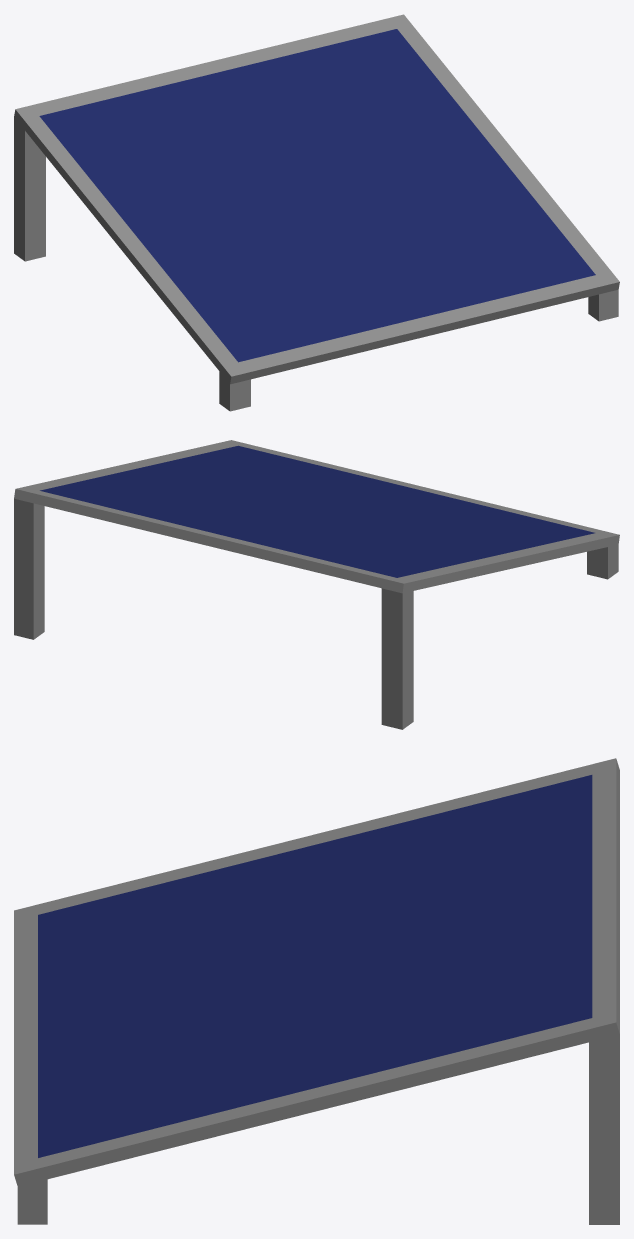
Rendered from solar panel.fbx.
3 renders of one model, top to bottom at view 1: azimuth 30°, elevation 25°; view 2: azimuth 150°, elevation 25°; view 3: azimuth 270°, elevation 25°, orthographic. The views are drawn at different scales.
Parts seen in each view (by area): view 1: Cube.002; view 2: Cube.002; view 3: Cube.002.
Part boxes in pixels (<box>): Cube.002: <box>14,14,619,411</box>; Cube.002: <box>14,440,619,729</box>; Cube.002: <box>14,758,619,1224</box>.
Size of the model in its own units: 4.26 by 1.52 by 4.13.
